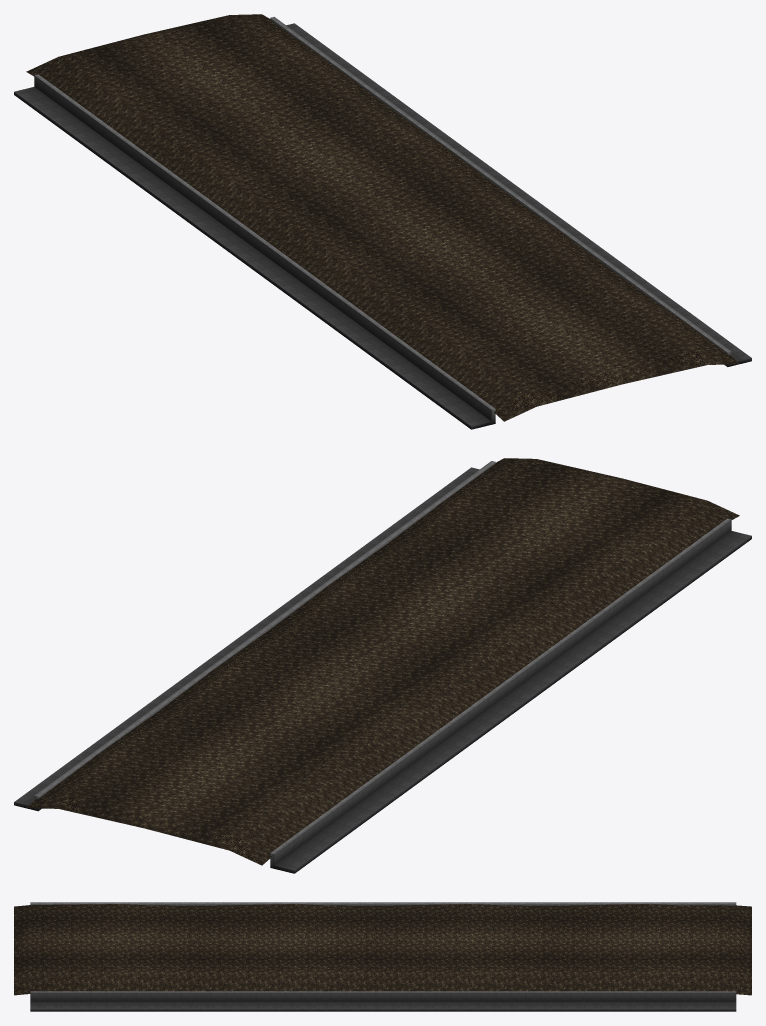
The model's file is AMB_JARI_KIN.glb.
The picture shows the model from 3 angles, top to bottom: view 1: azimuth 30°, elevation 25°; view 2: azimuth 150°, elevation 25°; view 3: azimuth 270°, elevation 25°; orthographic projection. The views are drawn at different scales.
Visible parts, largest first — view 1: Mesh1; view 2: Mesh1; view 3: Mesh1.
Boxes of the visible parts, x1,y1,x2,y2 form: Mesh1: (14,14,751,429); Mesh1: (14,458,751,873); Mesh1: (14,902,751,1011).
Size of the model in its own units: 35.42 by 3.13 by 105.
Materials: 2 (2 with a texture image).
